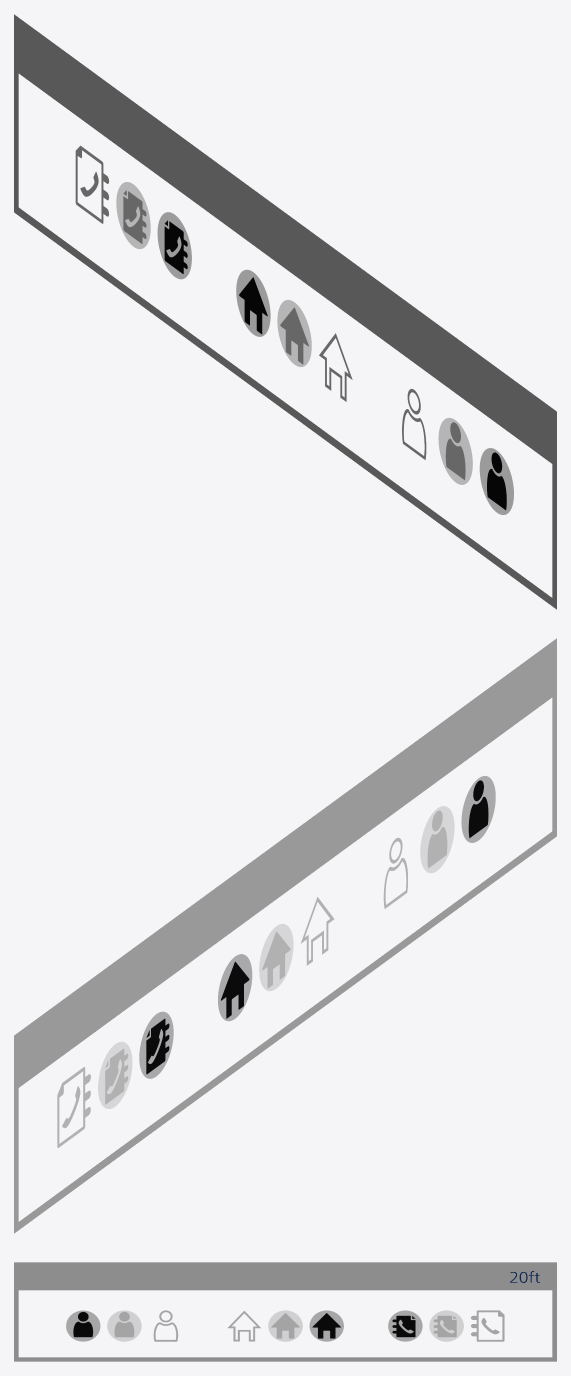
The picture shows the model from 3 angles, top to bottom: view 1: azimuth 30°, elevation 25°; view 2: azimuth 150°, elevation 25°; view 3: azimuth 270°, elevation 25°; orthographic projection. The views are drawn at different scales.
Visible parts, largest first — view 1: Plane.004, Home_BG_Dark.004, Contact_BG_White.004, Home_BG_White.004, Contact_BG_Dark.004, Profile_BG_White.004, Profile_BG_Dark.004, Contact_Line.004; view 2: Plane.004, Contact_BG_Dark.004, Contact_BG_White.004, Home_BG_White.004, Profile_BG_White.004, Profile_BG_Dark.004, Home_BG_Dark.004, Contact_Line.004; view 3: Plane.004, Home_BG_Dark.004, Contact_BG_Dark.004, Contact_BG_White.004, Profile_BG_Dark.004, Home_BG_White.004, Profile_BG_White.004, Contact_Line.004, Home_Line.004, Profile_Line.004.
Boxes of the visible parts, <box> form: Plane.004: <box>14,14,556,609</box>; Home_BG_Dark.004: <box>236,270,270,336</box>; Contact_BG_White.004: <box>116,182,150,248</box>; Home_BG_White.004: <box>277,300,311,366</box>; Contact_BG_Dark.004: <box>157,212,191,278</box>; Profile_BG_White.004: <box>438,418,472,484</box>; Profile_BG_Dark.004: <box>480,448,513,514</box>; Contact_Line.004: <box>75,145,108,223</box>; Plane.004: <box>14,638,556,1233</box>; Contact_BG_Dark.004: <box>139,1012,173,1078</box>; Contact_BG_White.004: <box>98,1042,132,1108</box>; Home_BG_White.004: <box>259,924,293,990</box>; Profile_BG_White.004: <box>420,806,454,872</box>; Profile_BG_Dark.004: <box>461,776,495,842</box>; Home_BG_Dark.004: <box>218,954,252,1020</box>; Contact_Line.004: <box>57,1067,90,1147</box>; Plane.004: <box>14,1262,556,1361</box>; Home_BG_Dark.004: <box>309,1310,343,1341</box>; Contact_BG_Dark.004: <box>388,1310,422,1341</box>; Contact_BG_White.004: <box>429,1310,463,1341</box>; Profile_BG_Dark.004: <box>66,1310,100,1341</box>; Home_BG_White.004: <box>268,1310,302,1341</box>; Profile_BG_White.004: <box>107,1310,141,1341</box>; Contact_Line.004: <box>471,1310,504,1341</box>; Home_Line.004: <box>228,1311,260,1341</box>; Profile_Line.004: <box>153,1310,177,1341</box>.
Size of the model in its own units: 0.1407 by 2.92 by 14.5.
Materials: 11 (9 with a texture image).
